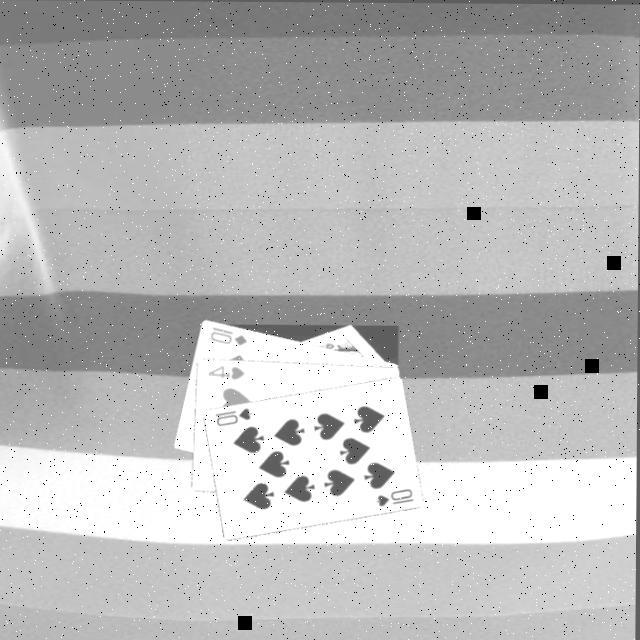10D: (206, 325, 249, 349)
10S: (373, 486, 417, 511), (211, 405, 254, 430)
4H: (204, 364, 246, 384)
